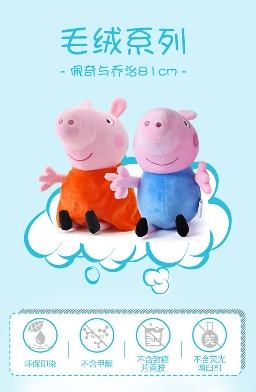Peppa: (39, 98, 138, 237)
